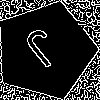J: (20, 25, 71, 78)
